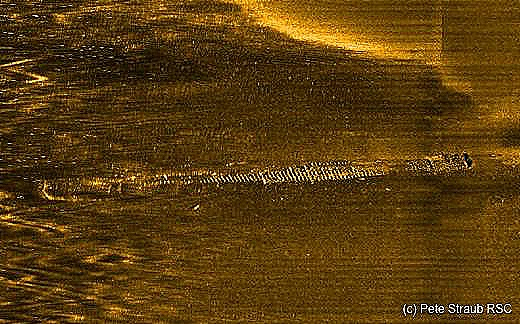ship: (32, 150, 477, 204)
